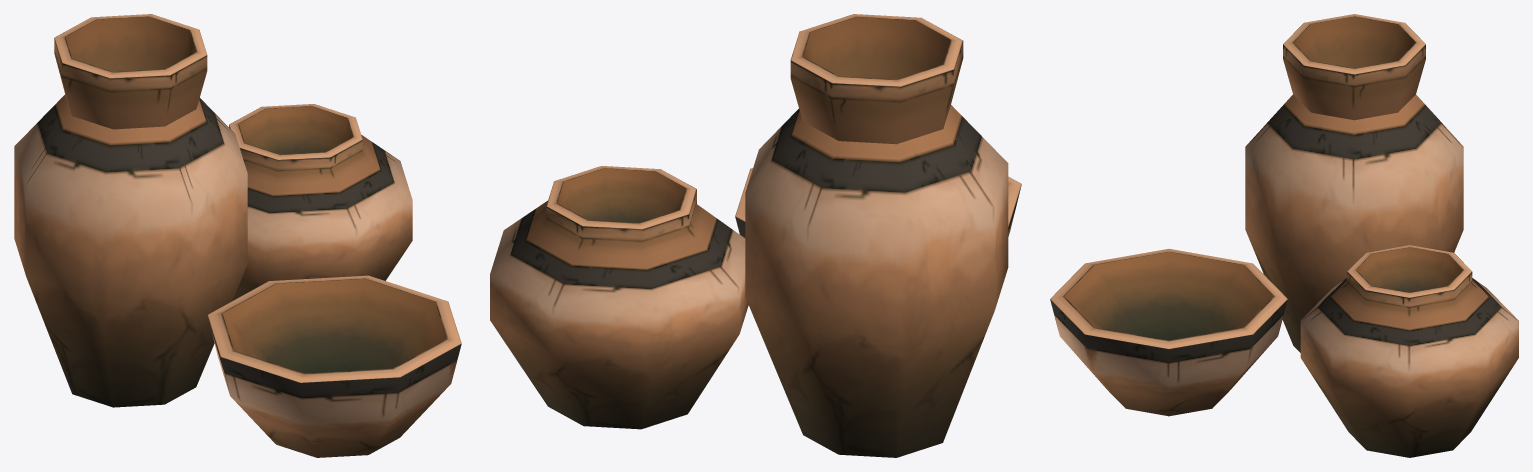
The model's file is 2_CZ_SanGuanZi_01.FBX.
3 renders of one model, left to right at view 1: azimuth 30°, elevation 25°; view 2: azimuth 150°, elevation 25°; view 3: azimuth 270°, elevation 25°, orthographic. The views are drawn at different scales.
Parts seen in each view (by area): view 1: 2_CZ_SanGuanZi_01, 2_CZ_SanGuanZi_03, 2_CZ_SanGuanZi_02; view 2: 2_CZ_SanGuanZi_01, 2_CZ_SanGuanZi_02, 2_CZ_SanGuanZi_03; view 3: 2_CZ_SanGuanZi_01, 2_CZ_SanGuanZi_02, 2_CZ_SanGuanZi_03.
Boxes of the visible parts, x1,y1,x2,y2 form: 2_CZ_SanGuanZi_01: [14, 14, 247, 407]; 2_CZ_SanGuanZi_03: [207, 275, 461, 457]; 2_CZ_SanGuanZi_02: [229, 104, 412, 300]; 2_CZ_SanGuanZi_01: [745, 14, 1008, 457]; 2_CZ_SanGuanZi_02: [490, 166, 748, 429]; 2_CZ_SanGuanZi_03: [735, 168, 1021, 237]; 2_CZ_SanGuanZi_01: [1245, 14, 1463, 352]; 2_CZ_SanGuanZi_02: [1300, 245, 1518, 457]; 2_CZ_SanGuanZi_03: [1050, 249, 1287, 416].
Bounding box in the file's own units: 258 × 204 × 286.
Materials: 1 (1 with a texture image).
